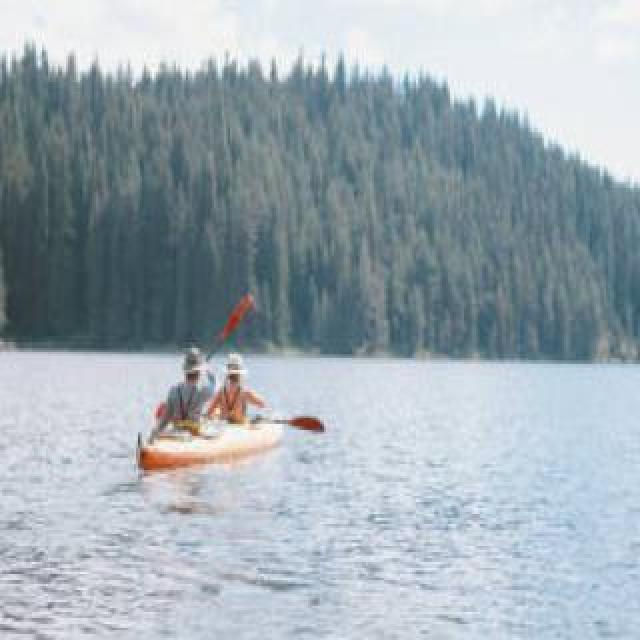kayak: (134, 417, 324, 477)
